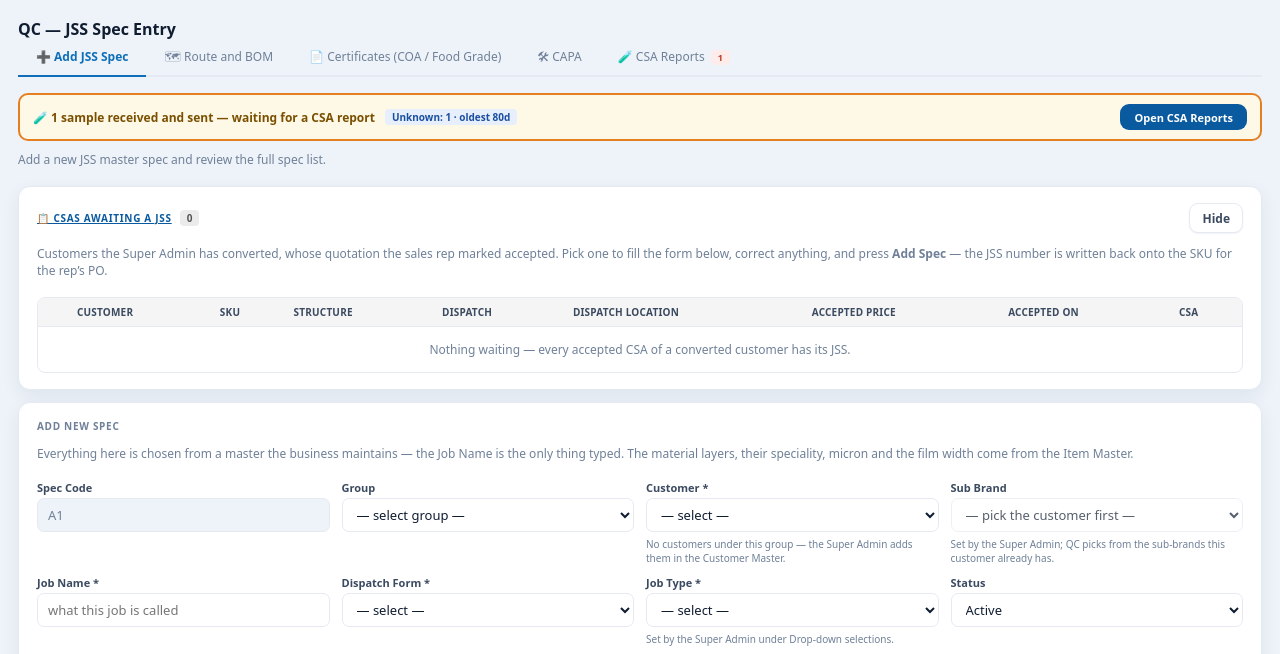
it: Direct CSA — micron is always a dropdown from the Item Master › LDPE - NATURAL + GUSSET (no micron on file) is a select of every LDPE - NATURAL micron, and says so
Click the text "🧪 CSA Reports 1" at (674, 56), box [618, 48, 730, 65]
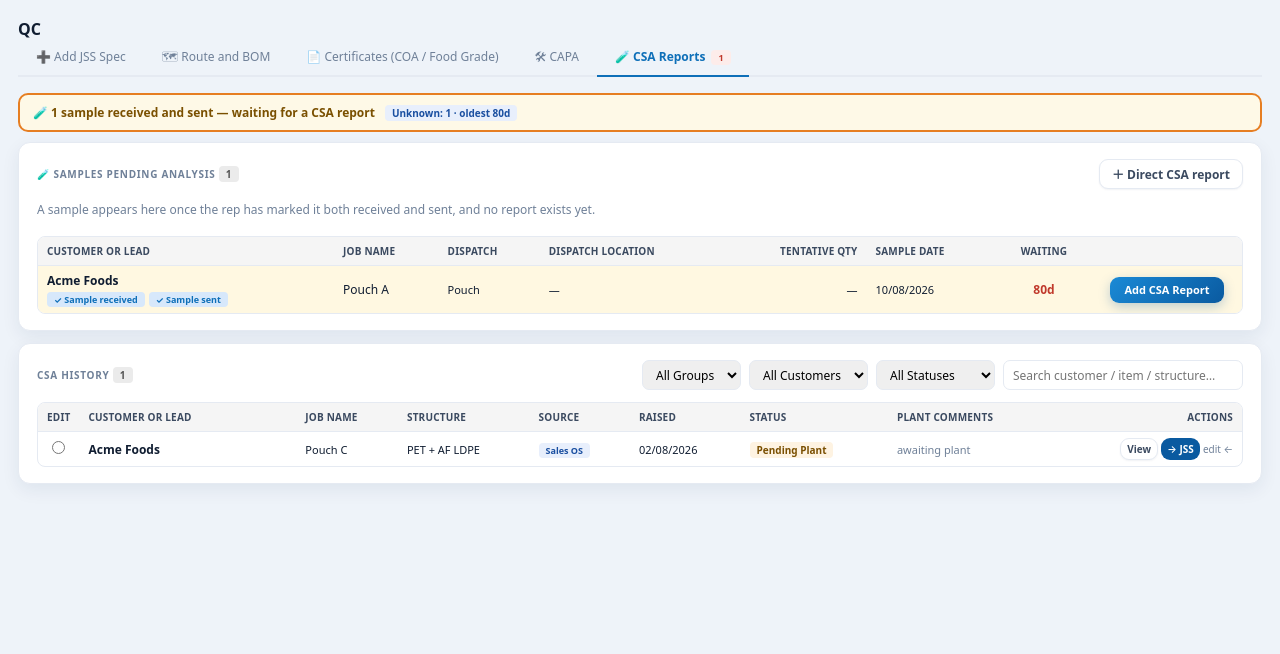
Click the button "＋ Direct CSA report" at (1171, 174), box [1099, 159, 1243, 189]
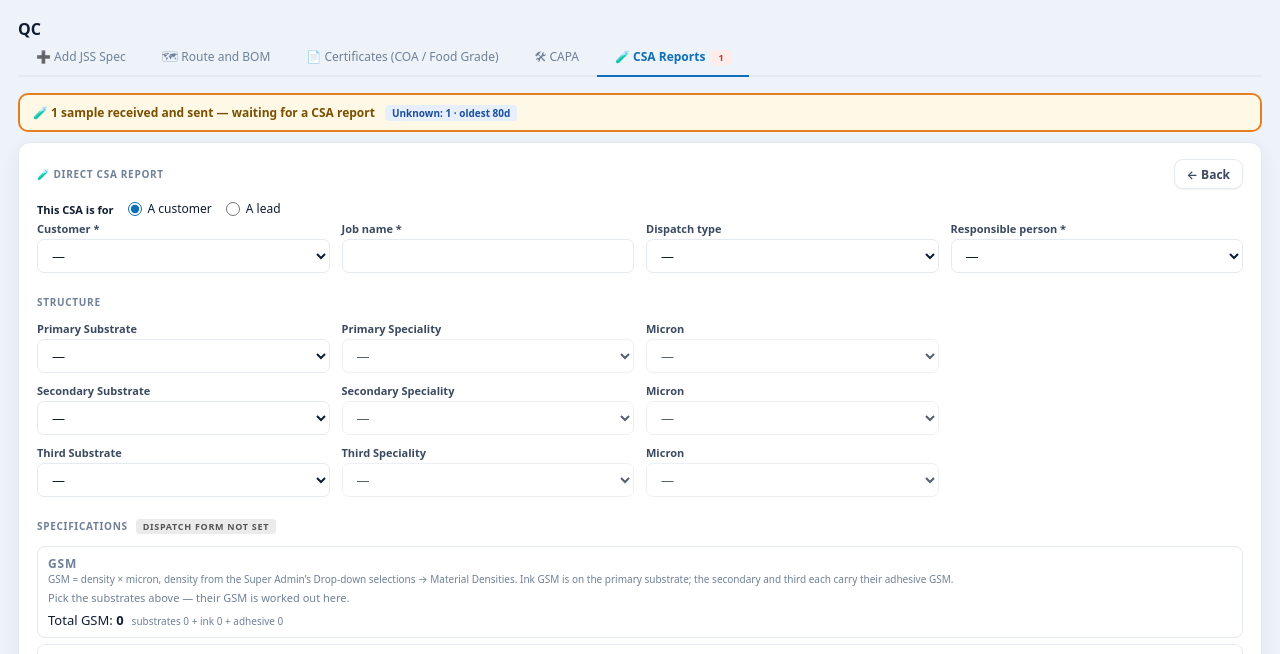
Select "LDPE - NATURAL" in the dropdown named "Third Substrate" at (183, 480), box [37, 463, 330, 497]
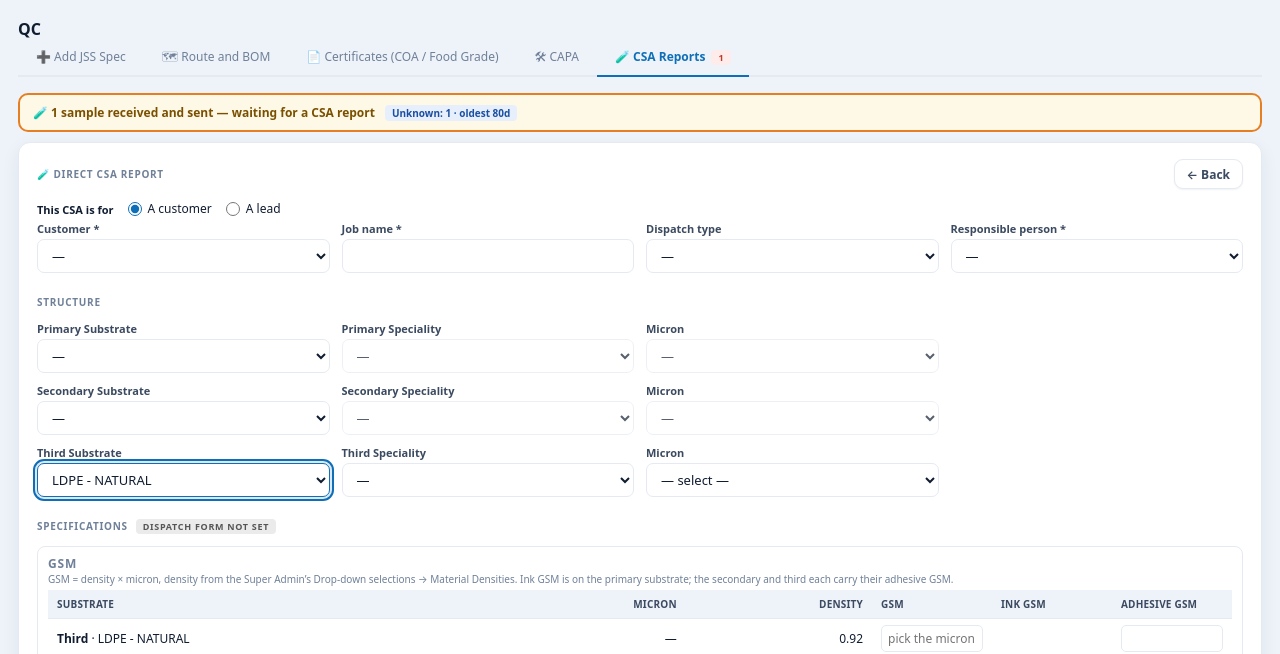
Select "GUSSET" in the dropdown named "Third Speciality" at (488, 480), box [342, 463, 634, 497]
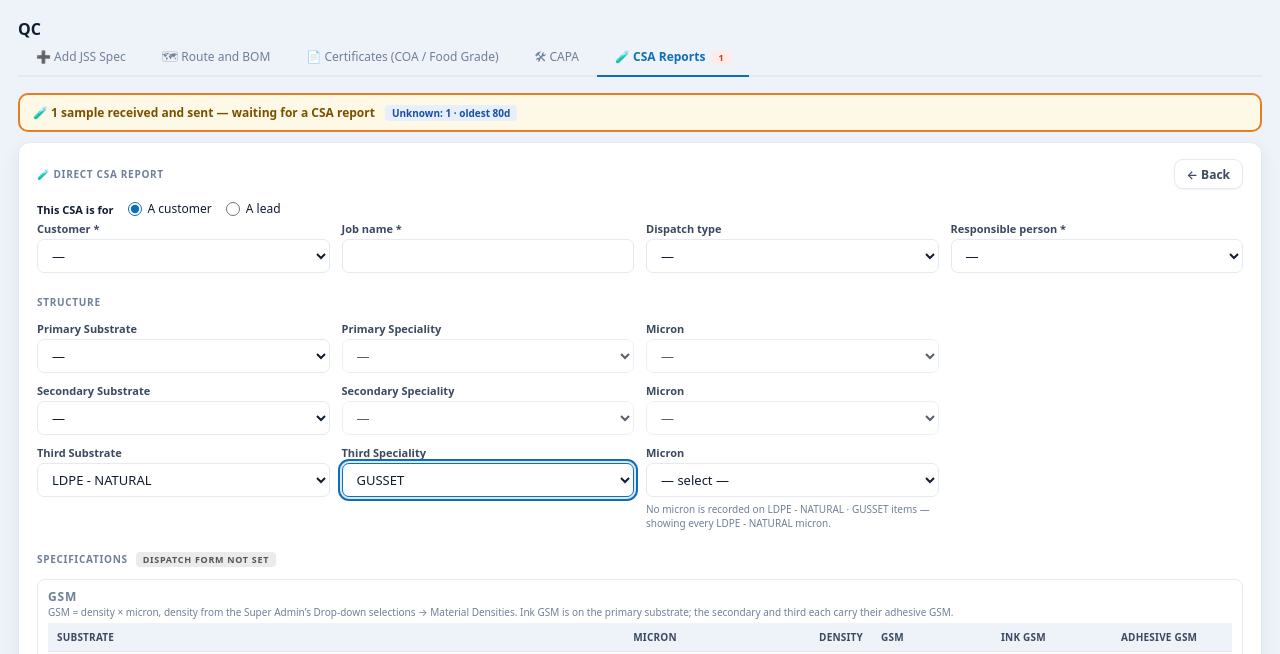
Check: the dropdown named "Third Substrate Micron" is enabled, box [646, 463, 938, 497]
Check: the text named "Third micron note" shows "showing every LDPE - NATURAL micron", box [646, 502, 930, 530]
